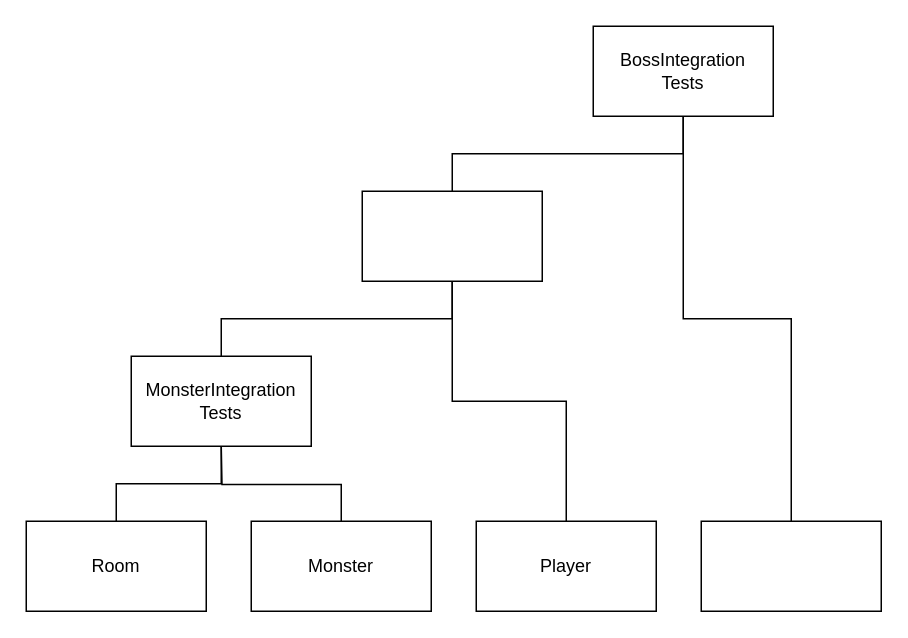
This 908x638 diagram has some shape labels left out. The box of each missing label's shape, as (x1, y1, x2, y2) in pixels:
Boss: (700, 520, 881, 611)
PlayerIntegration Tests: (361, 190, 542, 281)
